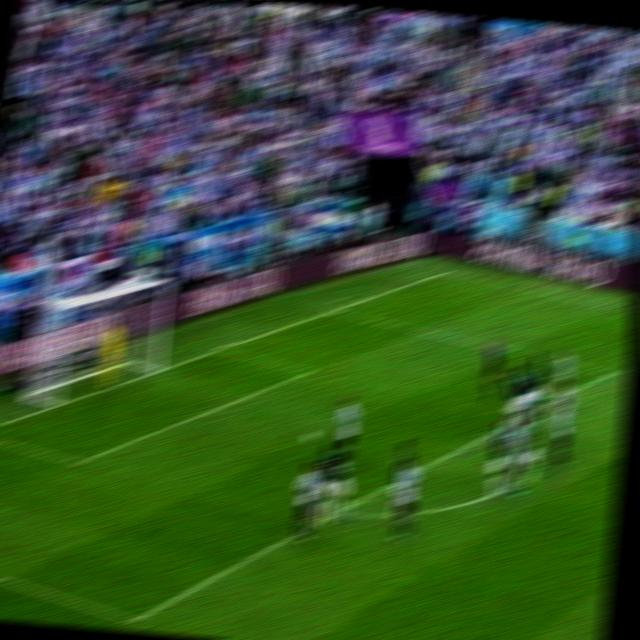bigarea_bottom_inner: (120, 605, 149, 631)
bigarea_top_inner: (601, 365, 619, 381)
bigarea_top_outter: (325, 305, 343, 315)
corner: (440, 268, 458, 275)
smallarea_bottom_inner: (63, 449, 90, 473)
smallarea_top_inner: (300, 363, 320, 377)
smallarea_top_outter: (214, 341, 234, 355)
